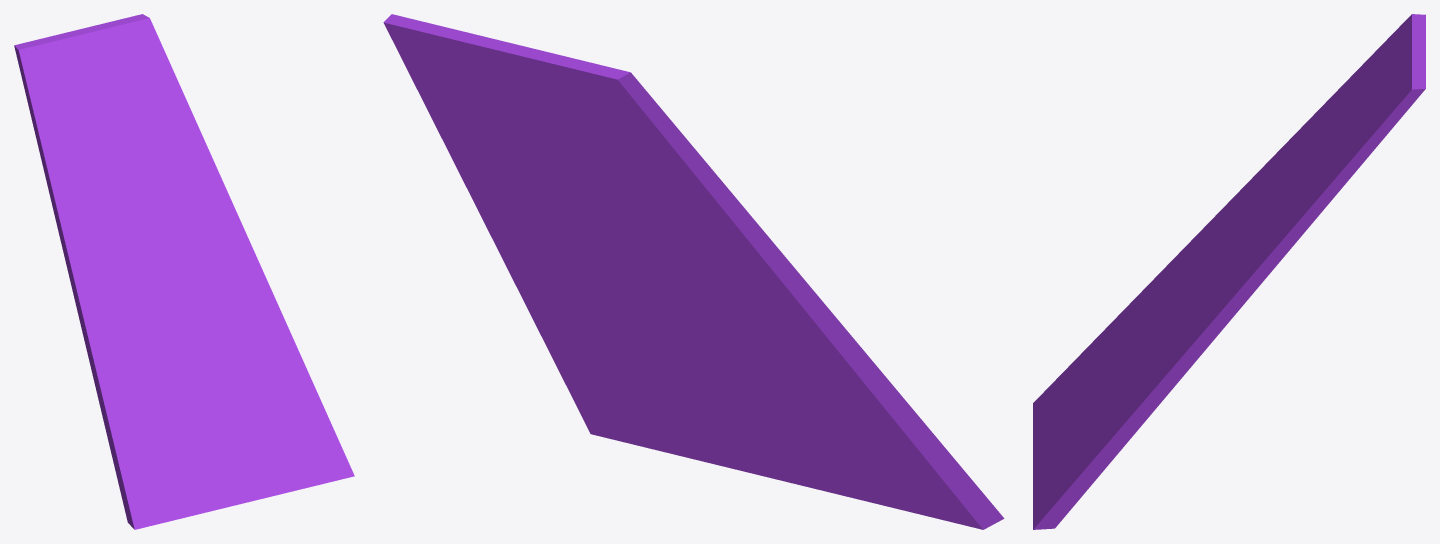
Rendered from Window_89_chunks.fbx.
3 renders of one model, left to right at view 1: azimuth 30°, elevation 25°; view 2: azimuth 150°, elevation 25°; view 3: azimuth 270°, elevation 25°, orthographic. The views are drawn at different scales.
Visible parts, largest first — view 1: Window_89_0, Window_89_1, Window_89_4, Window_89_2, Window_89_3, Window_89_6, Window_89_5; view 2: Window_89_0, Window_89_1, Window_89_4, Window_89_6, Window_89_3, Window_89_2, Window_89_5; view 3: Window_89_1, Window_89_0, Window_89_4, Window_89_2, Window_89_3, Window_89_6, Window_89_5.
Part boxes in pixels (x1,y1,x2,y2): Window_89_0: [14, 14, 221, 258]; Window_89_1: [167, 267, 354, 517]; Window_89_4: [93, 348, 185, 529]; Window_89_2: [157, 180, 261, 274]; Window_89_3: [57, 213, 132, 382]; Window_89_6: [56, 216, 155, 325]; Window_89_5: [128, 258, 174, 369]; Window_89_0: [383, 14, 757, 272]; Window_89_1: [490, 234, 902, 510]; Window_89_4: [748, 356, 1004, 529]; Window_89_6: [653, 231, 798, 360]; Window_89_3: [756, 224, 889, 393]; Window_89_2: [467, 189, 599, 253]; Window_89_5: [690, 308, 767, 362]; Window_89_1: [1033, 265, 1233, 529]; Window_89_0: [1231, 14, 1425, 265]; Window_89_4: [1033, 284, 1168, 432]; Window_89_2: [1205, 245, 1278, 328]; Window_89_3: [1149, 147, 1282, 286]; Window_89_6: [1187, 152, 1279, 268]; Window_89_5: [1145, 246, 1231, 330].
Size of the model in its own units: 629 by 960 by 824.
